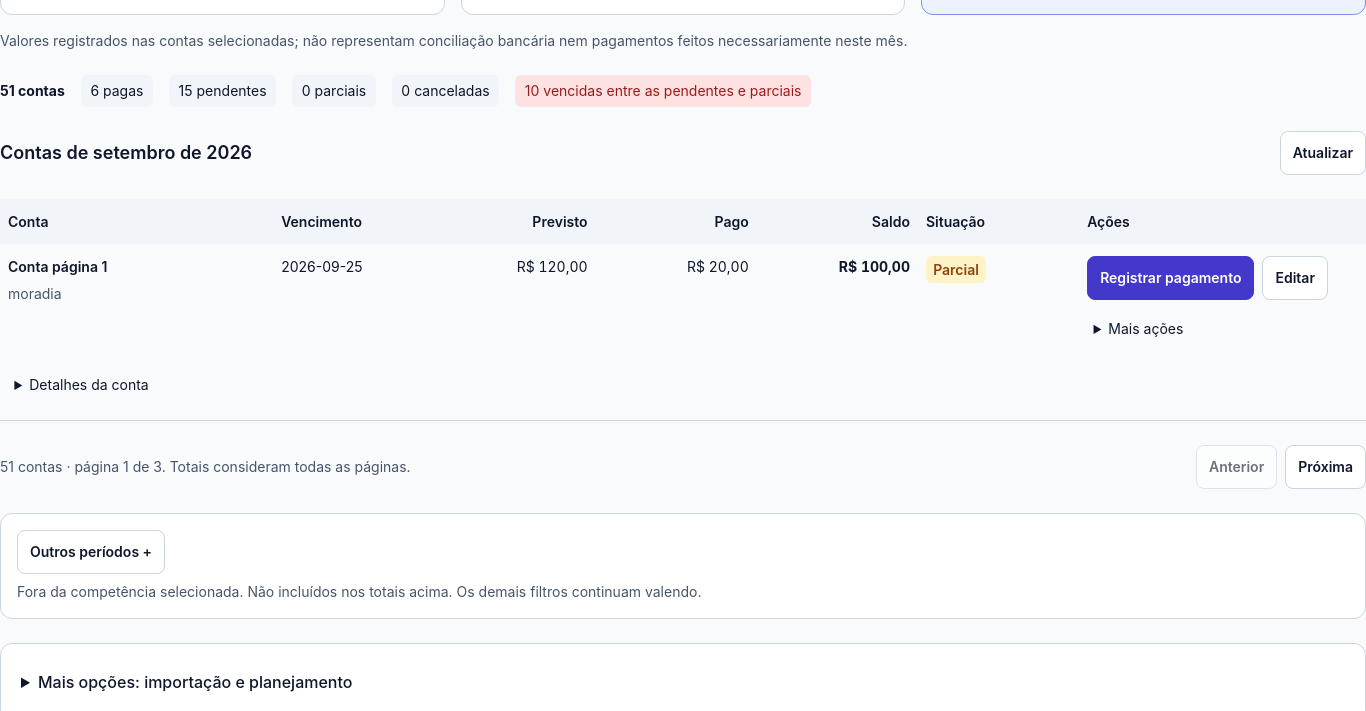
Test: FinancialExpensesPage integration › paginação além de 25 registros mantém resumo de todas as páginas
(page scrolled)
Expected: the text "51 contas" is shown, [0,80,65,101]
Step 1. Click the button "Próxima" → (1326, 467), box [1285,445,1365,489]
(page scrolled)
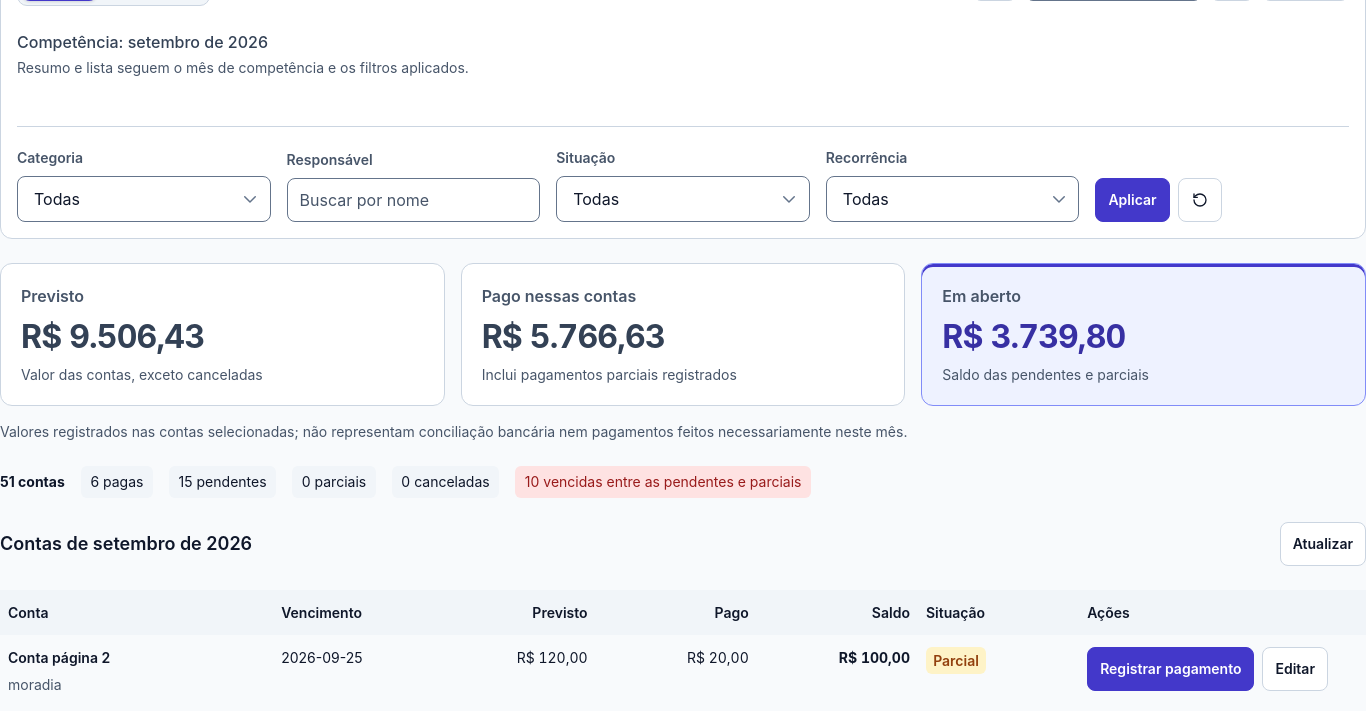
Expected: the text "R$ 9.506,43" is shown, [21,317,204,356]
Expected: the text "Conta página 2" is shown, [8,649,110,666]
